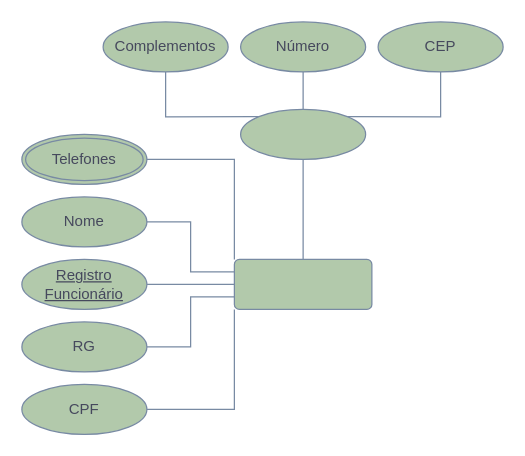
This 525x456 diagram has some shape labels left out. Here are the shapes that lost their labels. From the top down, the centre of each, then its label:
the point at 302,133: Endereço
the point at 302,283: Garçom
